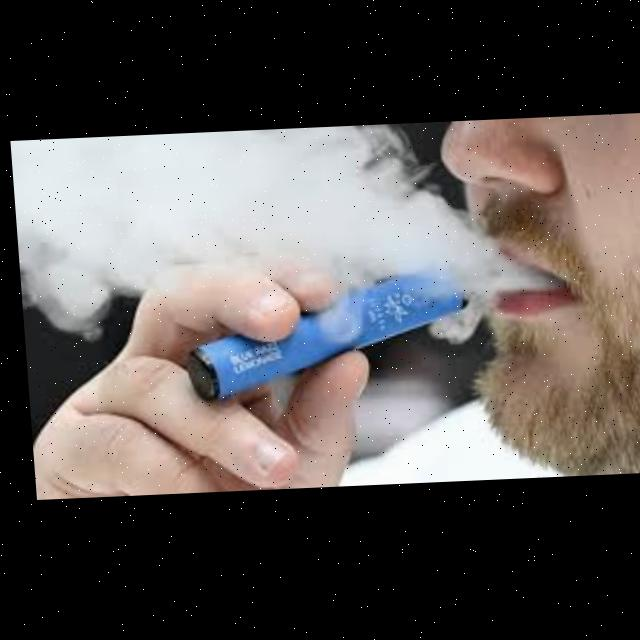vape: (178, 274, 469, 400)
